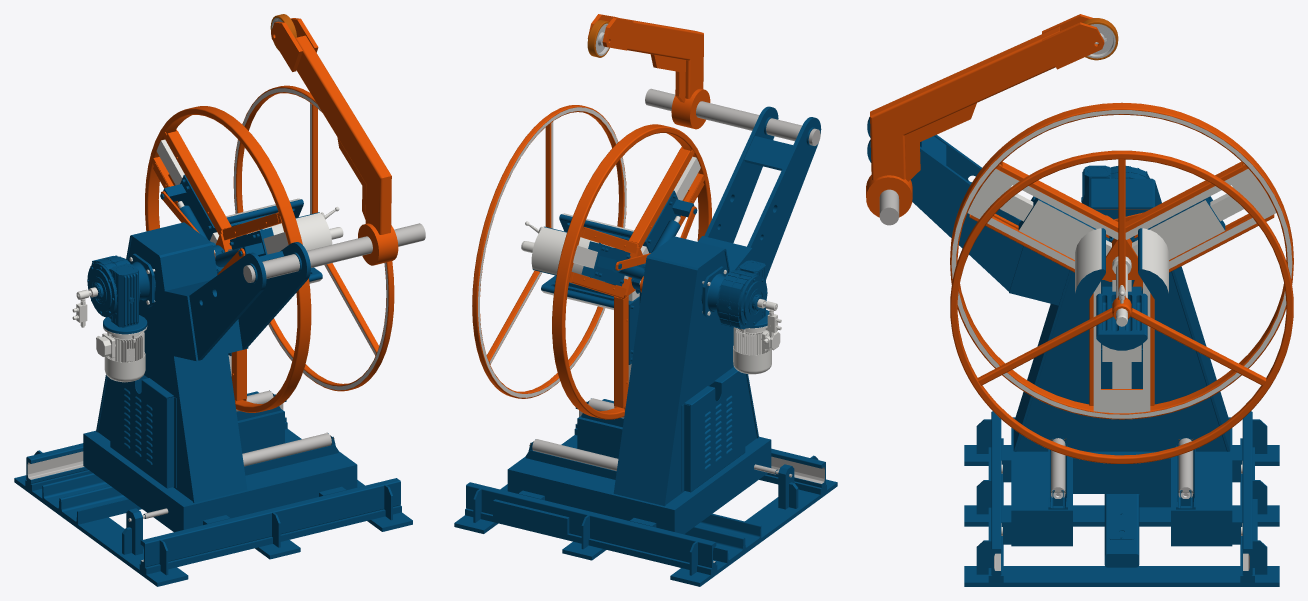
The picture shows the model from 3 angles, left to right: view 1: azimuth 30°, elevation 25°; view 2: azimuth 150°, elevation 25°; view 3: azimuth 270°, elevation 25°; orthographic projection. The views are drawn at different scales.
Visible parts, largest first — view 1: Solido2, Solido10, Solido1, Solido13, Solido11, Solido9, Solido12, Solido19, Solido16; view 2: Solido10, Solido2, Solido1, Solido11, Solido13, Solido9, Solido12, Solido25, Solido22; view 3: Solido10, Solido2, Solido1, Solido13, Solido11, Solido25, Solido19, Solido12, Solido22, Solido16.
Boxes of the visible parts, x1,y1,x2,y2 form: Solido2: (83, 222, 357, 532); Solido10: (72, 85, 394, 412); Solido1: (14, 400, 412, 586); Solido13: (270, 14, 398, 265); Solido11: (184, 242, 310, 361); Solido9: (110, 378, 176, 488); Solido12: (243, 223, 425, 282); Solido19: (242, 433, 331, 466); Solido16: (244, 433, 338, 475); Solido10: (472, 105, 781, 419); Solido2: (507, 236, 792, 534); Solido1: (454, 407, 837, 586); Solido11: (700, 106, 821, 279); Solido13: (587, 14, 710, 129); Solido9: (681, 367, 745, 492); Solido12: (645, 88, 820, 145); Solido25: (532, 439, 618, 470); Solido22: (525, 439, 616, 479); Solido10: (950, 102, 1293, 463); Solido2: (1001, 178, 1242, 546); Solido1: (964, 411, 1279, 586); Solido13: (866, 14, 1118, 217); Solido11: (867, 117, 1028, 294); Solido25: (1178, 438, 1193, 497); Solido19: (1051, 438, 1065, 497); Solido12: (879, 189, 899, 225); Solido22: (1176, 438, 1195, 509); Solido16: (1048, 438, 1067, 509).
Size of the model in its own units: 1.39 by 2.38 by 1.74.
Materials: 12 (3 with a texture image).
